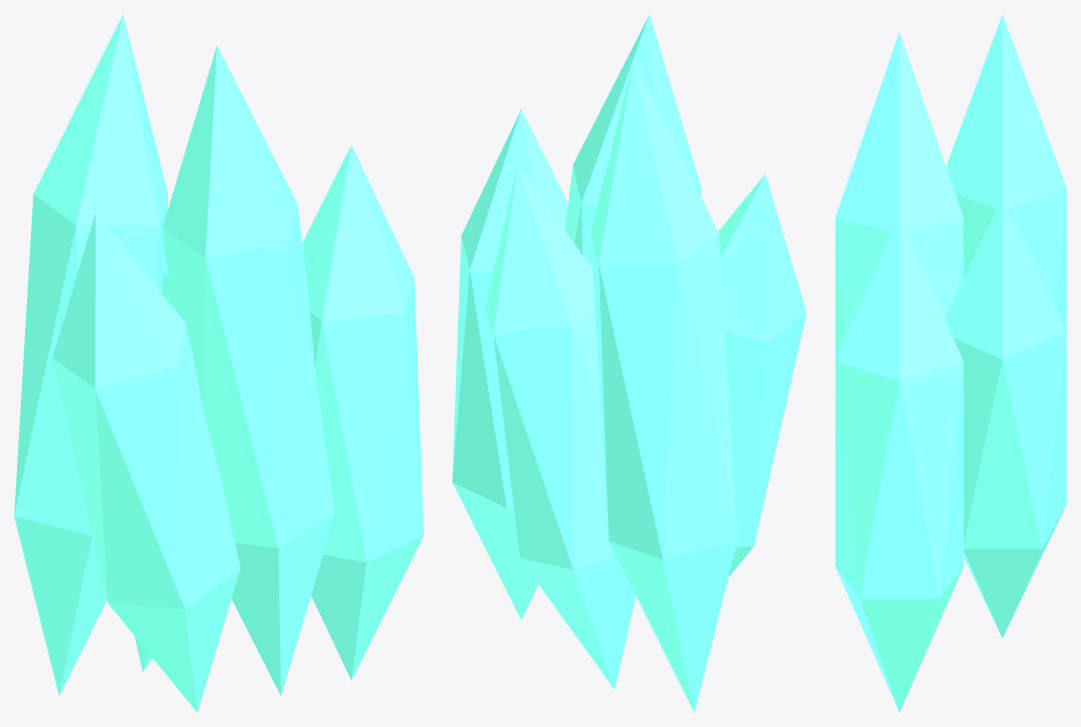
The model's file is Crystal.fbx.
The picture shows the model from 3 angles, left to right: view 1: azimuth 30°, elevation 25°; view 2: azimuth 150°, elevation 25°; view 3: azimuth 270°, elevation 25°; orthographic projection. The views are drawn at different scales.
Visible parts, largest first — view 1: Quartz prism.001_export, Quartz prism_export, Quartz prism.002_export, Quartz prism.003_export; view 2: Quartz prism.003_export, Quartz prism.004_export, Quartz prism.002_export, Quartz prism_export, Quartz prism.001_export; view 3: Quartz prism.002_export, Quartz prism.004_export, Quartz prism.001_export, Quartz prism.003_export.
Boxes of the visible parts, x1,y1,x2,y2 form: Quartz prism.001_export: (162,45,334,695); Quartz prism_export: (52,213,240,712); Quartz prism.002_export: (302,145,423,680); Quartz prism.003_export: (14,14,167,695); Quartz prism.003_export: (590,62,737,712); Quartz prism.004_export: (485,165,635,689); Quartz prism.002_export: (452,109,568,620); Quartz prism_export: (718,174,806,577); Quartz prism.001_export: (565,14,701,268); Quartz prism.002_export: (835,215,963,712); Quartz prism.004_export: (944,197,1066,638); Quartz prism.001_export: (835,31,963,360); Quartz prism.003_export: (946,14,1066,330).
Size of the model in its own units: 108 by 200 by 67.43.
